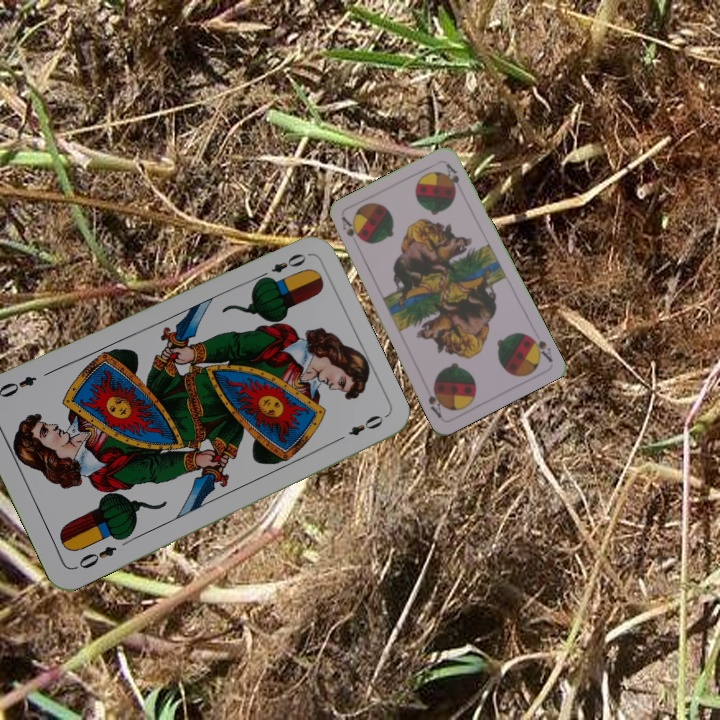EO: (254, 249, 309, 283), (70, 542, 119, 572)
SA: (524, 331, 555, 364), (338, 213, 357, 239)
